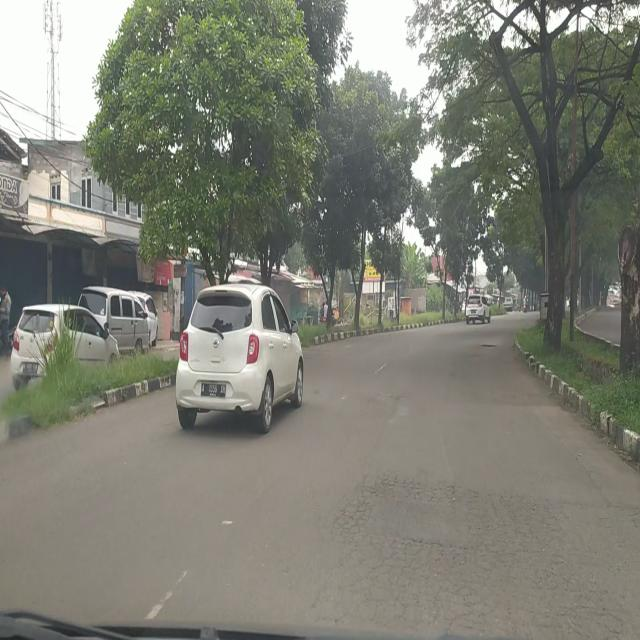Drain Hole: (321, 470, 632, 640)
